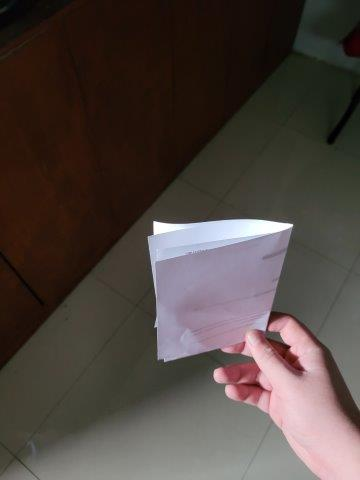kertas: (147, 221, 293, 362)
